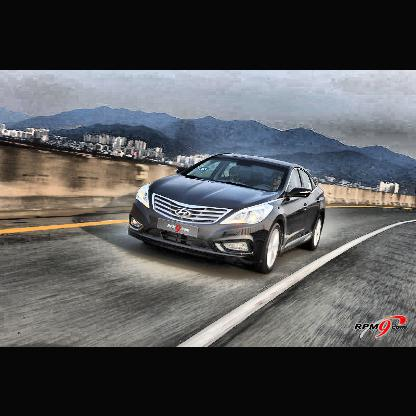Hyundai Azera Sedan 2012: (128, 150, 329, 276)
